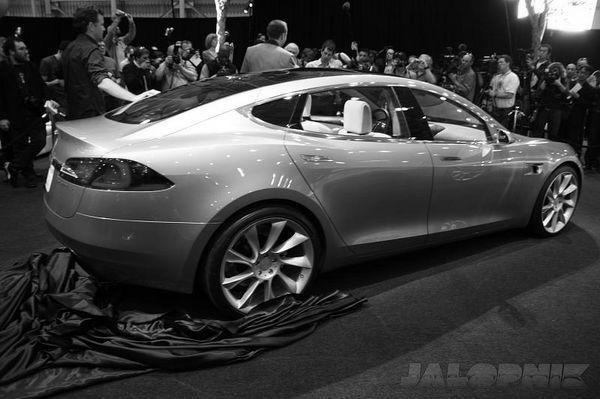car: (43, 70, 584, 321)
